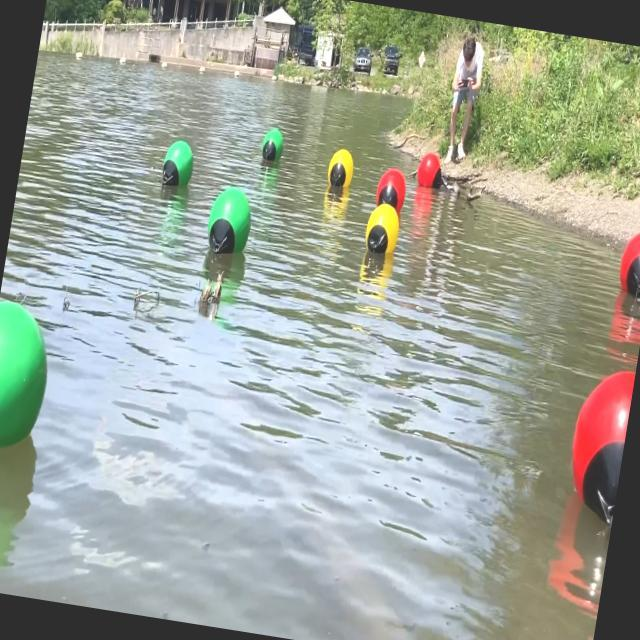buoy: (557, 358, 636, 534), (0, 297, 62, 462), (202, 183, 255, 262), (364, 203, 402, 259), (615, 226, 640, 311), (160, 136, 198, 191), (374, 164, 408, 214), (414, 150, 451, 194), (325, 146, 357, 193), (258, 126, 286, 166)
